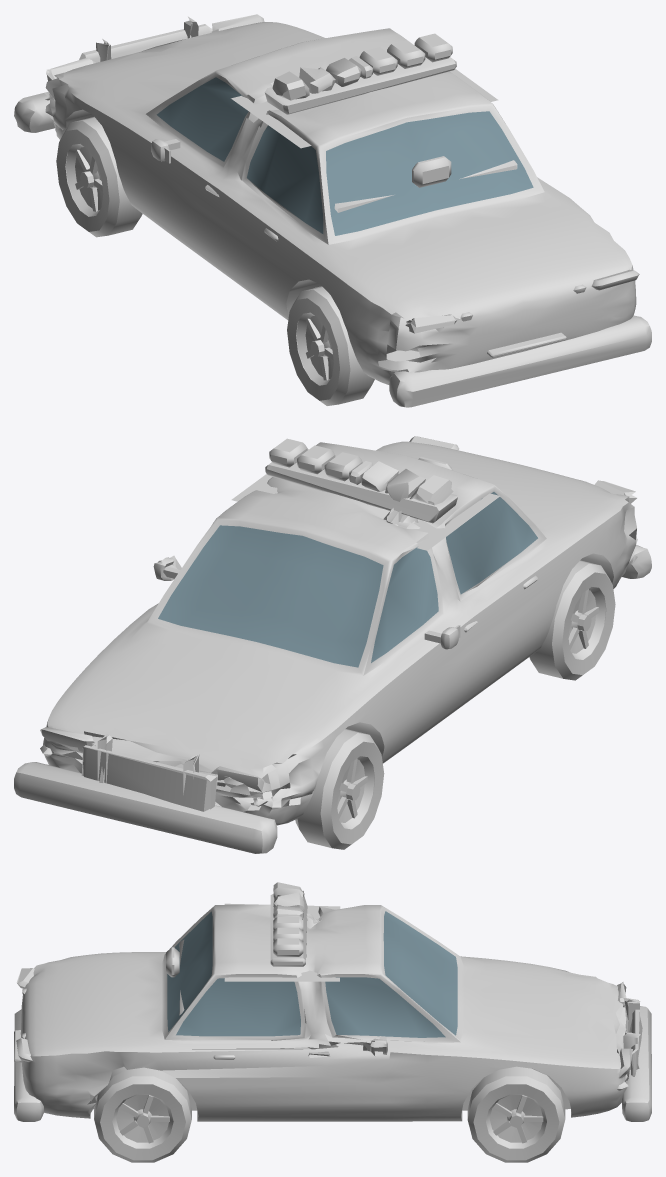
The model's file is car_police_dmg2.glb.
The picture shows the model from 3 angles, top to bottom: view 1: azimuth 30°, elevation 25°; view 2: azimuth 150°, elevation 25°; view 3: azimuth 270°, elevation 25°; orthographic projection. The views are drawn at different scales.
Parts seen in each view (by area): view 1: car_police_dmg2; view 2: car_police_dmg2; view 3: car_police_dmg2.
Part boxes in pixels (x1,y1,x2,y2): car_police_dmg2: [14, 14, 651, 407]; car_police_dmg2: [14, 436, 651, 853]; car_police_dmg2: [14, 882, 651, 1162].
Size of the model in its own units: 2.06 by 1.62 by 4.7.
